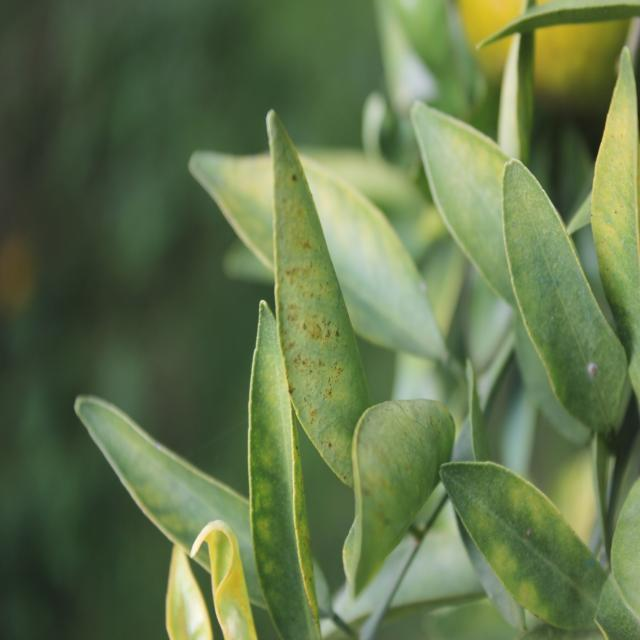melanose: (253, 103, 393, 491)
